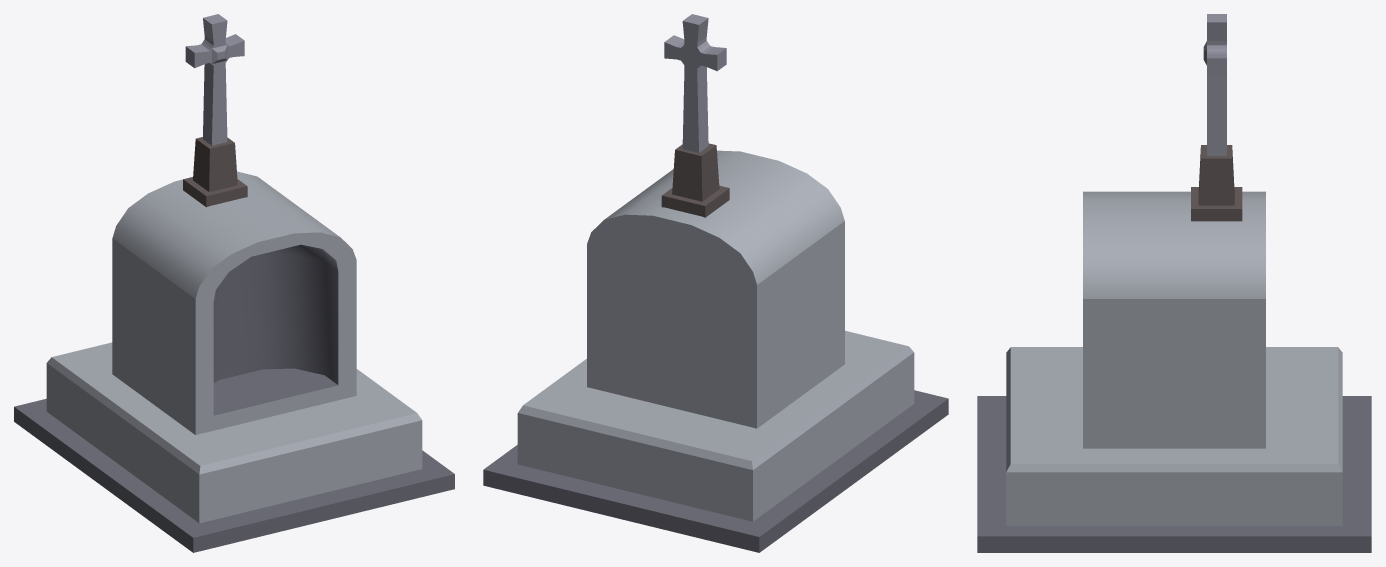
File: HWN20_Grave_19.glb
3 renders of one model, left to right at view 1: azimuth 30°, elevation 25°; view 2: azimuth 150°, elevation 25°; view 3: azimuth 270°, elevation 25°, orthographic. The views are drawn at different scales.
Visible parts, largest first — view 1: HWN20_Grave_19; view 2: HWN20_Grave_19; view 3: HWN20_Grave_19.
Part boxes in pixels (x1,y1,x2,y2): HWN20_Grave_19: (14, 14, 454, 552); HWN20_Grave_19: (483, 14, 948, 552); HWN20_Grave_19: (977, 14, 1371, 552).
Size of what is drawn, in the model's own units: 1.09 by 1.67 by 1.29.
Materials: 1 (1 with a texture image).
